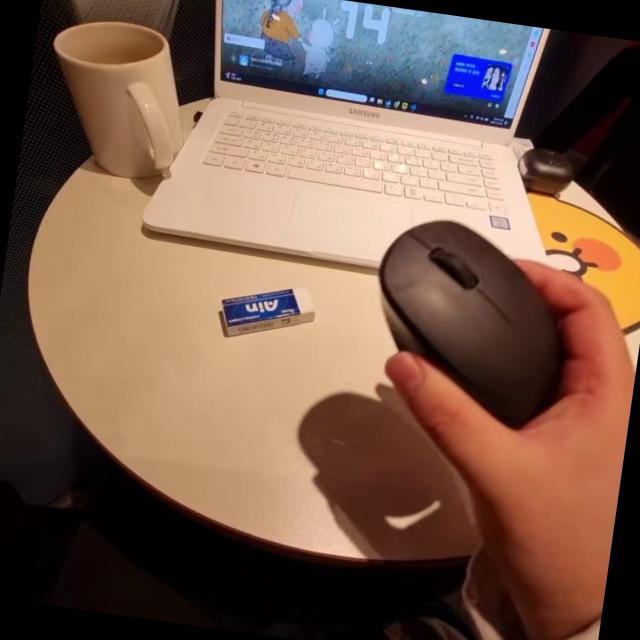eraser: (205, 274, 324, 356)
grab_mouse: (344, 204, 640, 586)
mouse: (332, 200, 578, 413)
